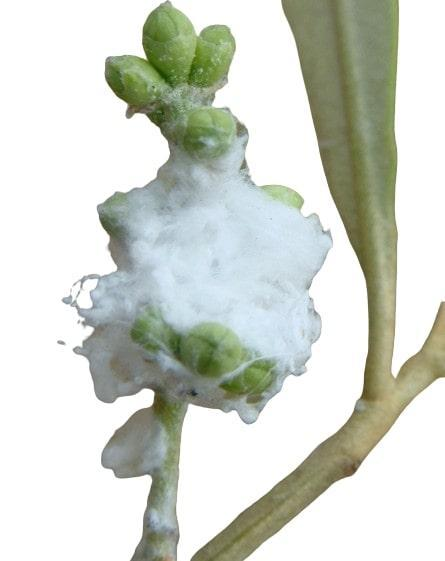Psyllid: (75, 114, 334, 490)
